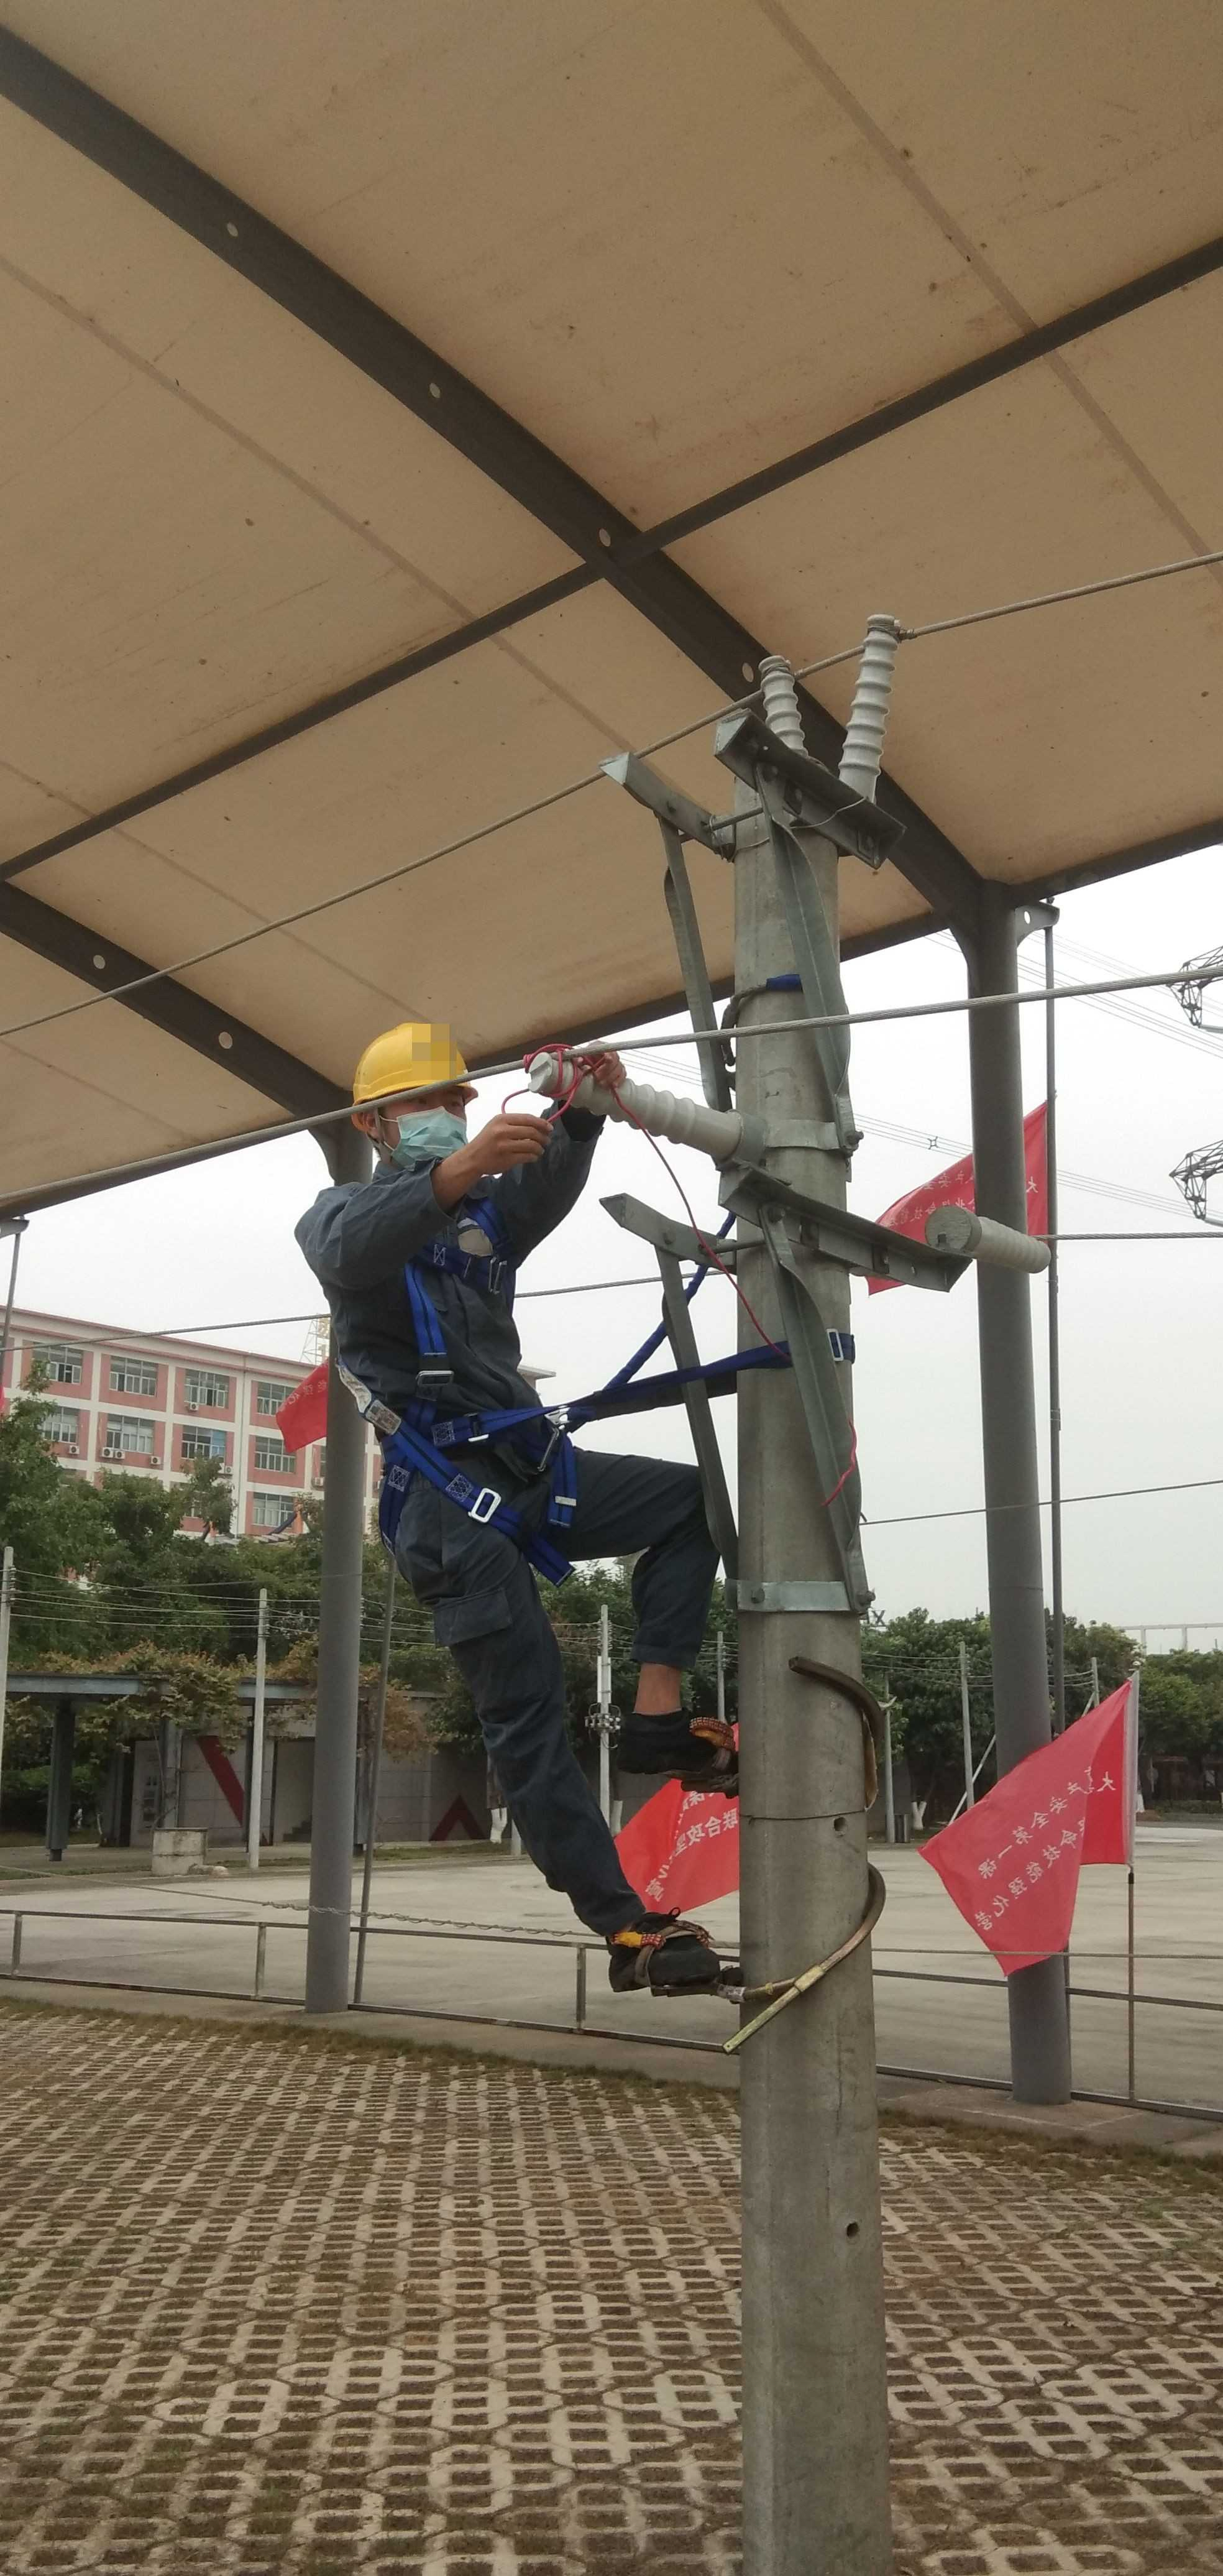downsuit: (392, 1456, 712, 1922)
upsuit: (304, 1183, 538, 1437)
wrongbottom: (629, 1644, 696, 1766)
